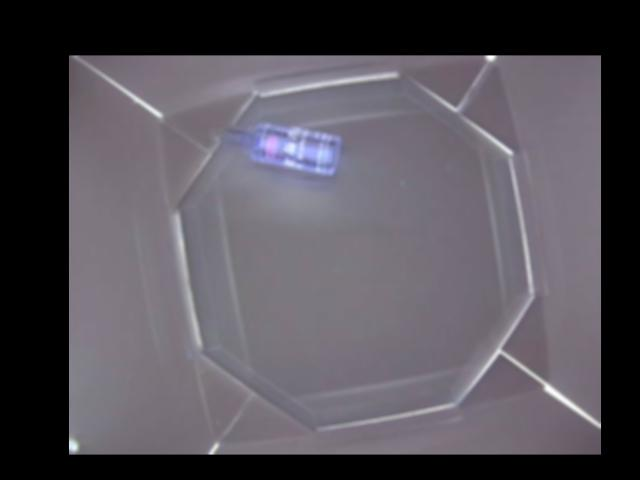Bottle: (212, 124, 341, 175)
